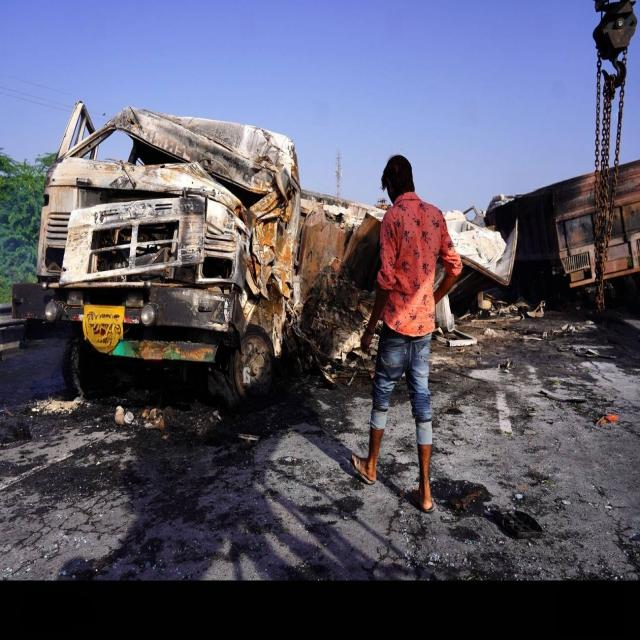accident: (12, 102, 385, 410)
